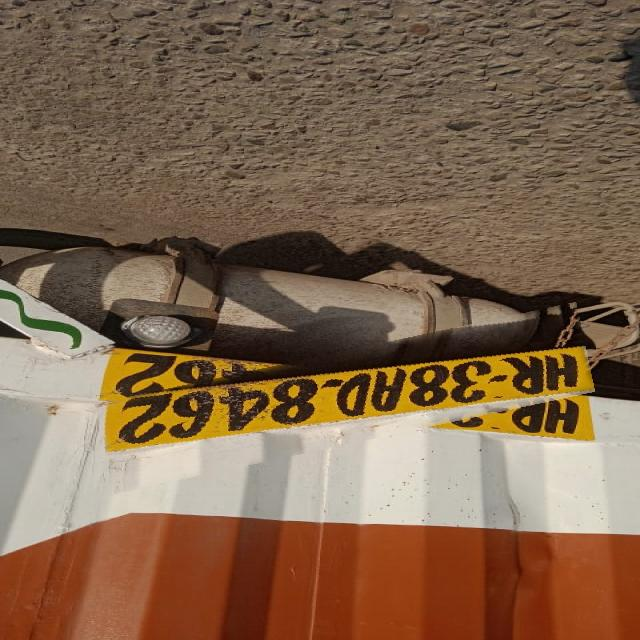License-plate: (104, 348, 595, 453)
